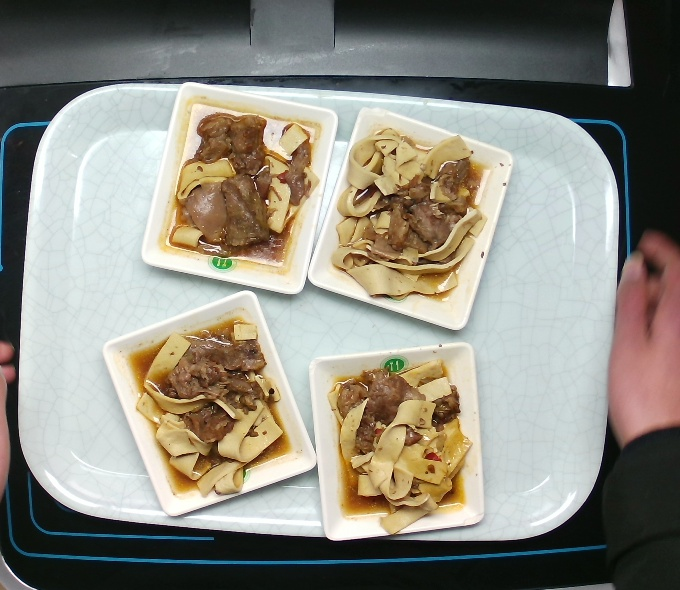wcq-QianZhangNiuNan: (158, 95, 326, 281), (331, 129, 499, 315), (128, 312, 296, 498), (320, 355, 479, 537)
